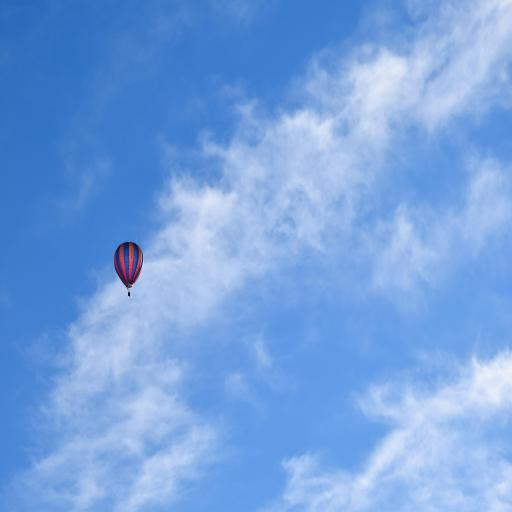hot air ballon: (114, 241, 144, 296)
